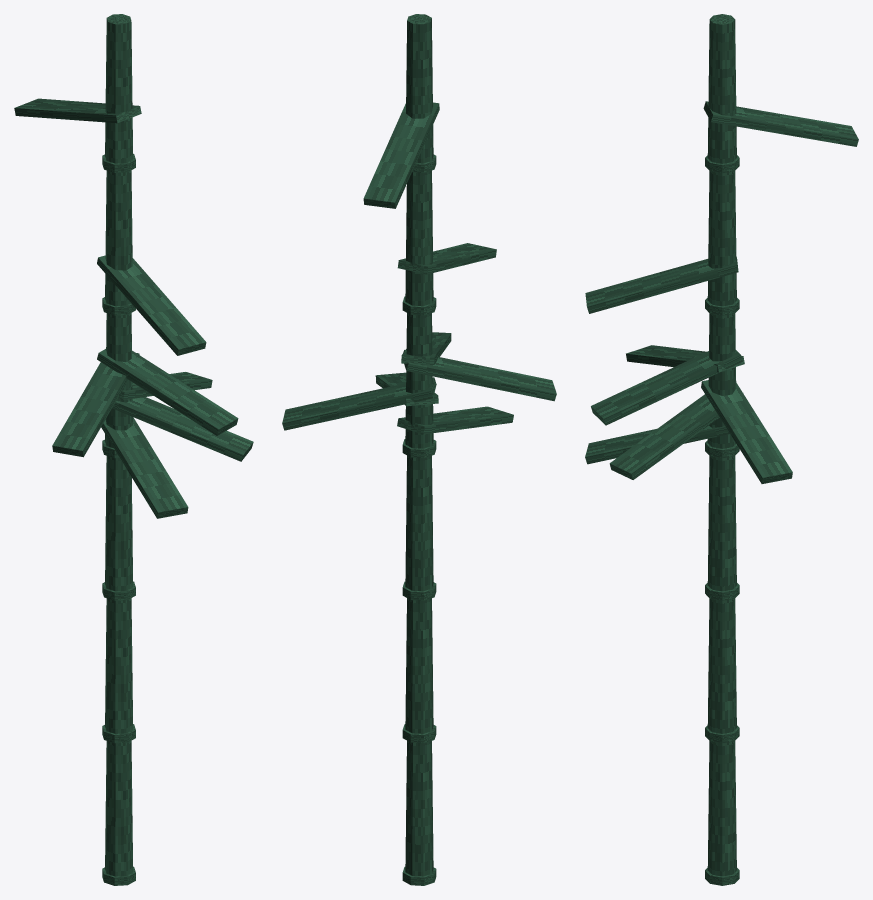
File: bamboo_53.glb
The picture shows the model from 3 angles, left to right: view 1: azimuth 30°, elevation 25°; view 2: azimuth 150°, elevation 25°; view 3: azimuth 270°, elevation 25°; orthographic projection.
Parts seen in each view (by area): view 1: Stem.005, Stem.001, Leaf.006, Stem, Leaf.002, Stem.002, Leaf.003, Leaf, Stem.004, Leaf.001, Leaf.005, Stem.003 (+1 smaller); view 2: Stem.001, Stem.002, Stem, Leaf.005, Stem.004, Stem.005, Leaf.004, Leaf, Stem.003, Leaf.003, Leaf.006, Leaf.002 (+1 smaller); view 3: Stem.005, Stem.001, Stem, Stem.002, Leaf.004, Stem.004, Leaf.002, Leaf.001, Leaf.006, Leaf.005, Stem.003, Leaf.003 (+1 smaller).
Part boxes in pixels (left/top/right/bottom): Stem.005: left=105, top=14, right=133, bottom=163; Stem.001: left=105, top=598, right=133, bottom=733; Leaf.006: left=97, top=255, right=206, bottom=355; Stem: left=105, top=740, right=133, bottom=876; Leaf.002: left=97, top=349, right=238, bottom=435; Stem.002: left=105, top=456, right=133, bottom=591; Leaf.003: left=101, top=417, right=188, bottom=518; Leaf: left=52, top=352, right=139, bottom=457; Stem.004: left=105, top=170, right=132, bottom=306; Leaf.001: left=112, top=397, right=253, bottom=461; Leaf.005: left=14, top=98, right=141, bottom=123; Stem.003: left=105, top=313, right=132, bottom=448; Stem.001: left=405, top=598, right=433, bottom=733; Stem.002: left=405, top=455, right=433, bottom=591; Stem: left=405, top=741, right=433, bottom=876; Leaf.005: left=363, top=102, right=439, bottom=208; Stem.004: left=405, top=170, right=433, bottom=306; Stem.005: left=406, top=14, right=433, bottom=163; Leaf.004: left=282, top=377, right=436, bottom=430; Leaf: left=403, top=350, right=556, bottom=401; Stem.003: left=405, top=313, right=433, bottom=448; Leaf.003: left=397, top=406, right=513, bottom=434; Leaf.006: left=397, top=243, right=496, bottom=274; Leaf.002: left=401, top=332, right=451, bottom=364; Stem.005: left=707, top=14, right=736, bottom=163; Stem.001: left=707, top=598, right=736, bottom=733; Stem: left=707, top=741, right=736, bottom=876; Stem.002: left=707, top=456, right=736, bottom=591; Leaf.004: left=701, top=380, right=792, bottom=483; Stem.004: left=707, top=171, right=736, bottom=306; Leaf.002: left=591, top=350, right=742, bottom=425; Leaf.001: left=609, top=394, right=719, bottom=479; Leaf.006: left=585, top=256, right=738, bottom=313; Leaf.005: left=703, top=101, right=858, bottom=146; Stem.003: left=707, top=313, right=736, bottom=448; Leaf.003: left=585, top=425, right=729, bottom=464.
Bounding box in the file's own units: 1.36 × 5.18 × 1.5.
Materials: 1 (1 with a texture image).
